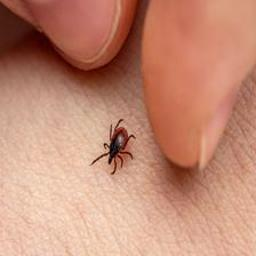Rhipicephalus sanguineus: (88, 124, 137, 175)
